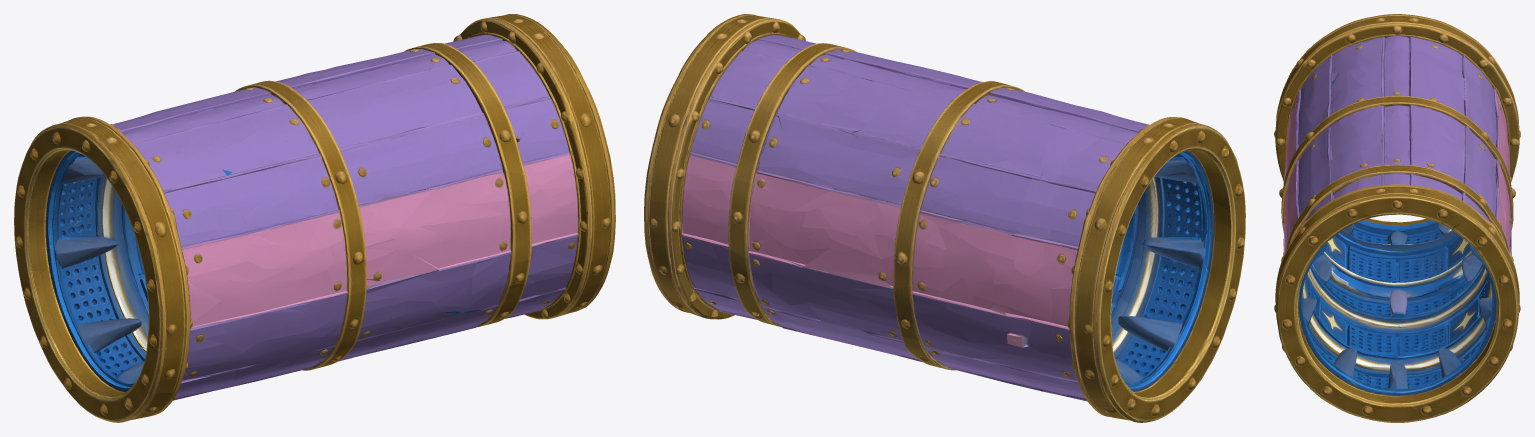
File: BubbleWashTunnel_Mobile_2K_Lite.glb
3 renders of one model, left to right at view 1: azimuth 30°, elevation 25°; view 2: azimuth 150°, elevation 25°; view 3: azimuth 270°, elevation 25°, orthographic. The views are drawn at different scales.
Visible parts, largest first — view 1: output_unwrapped; view 2: output_unwrapped; view 3: output_unwrapped.
Part boxes in pixels (x1,y1,x2,y2): output_unwrapped: (14, 14, 615, 422); output_unwrapped: (644, 14, 1245, 422); output_unwrapped: (1274, 14, 1520, 422).
Bounding box in the file's own units: 1.9 × 1.09 × 1.07.
1 material, 1 textured.
